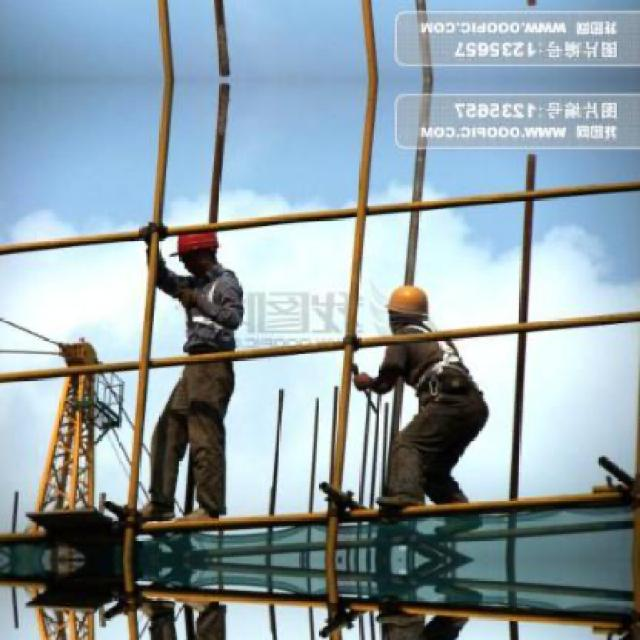con casco: (137, 214, 247, 322), (371, 260, 455, 345)
